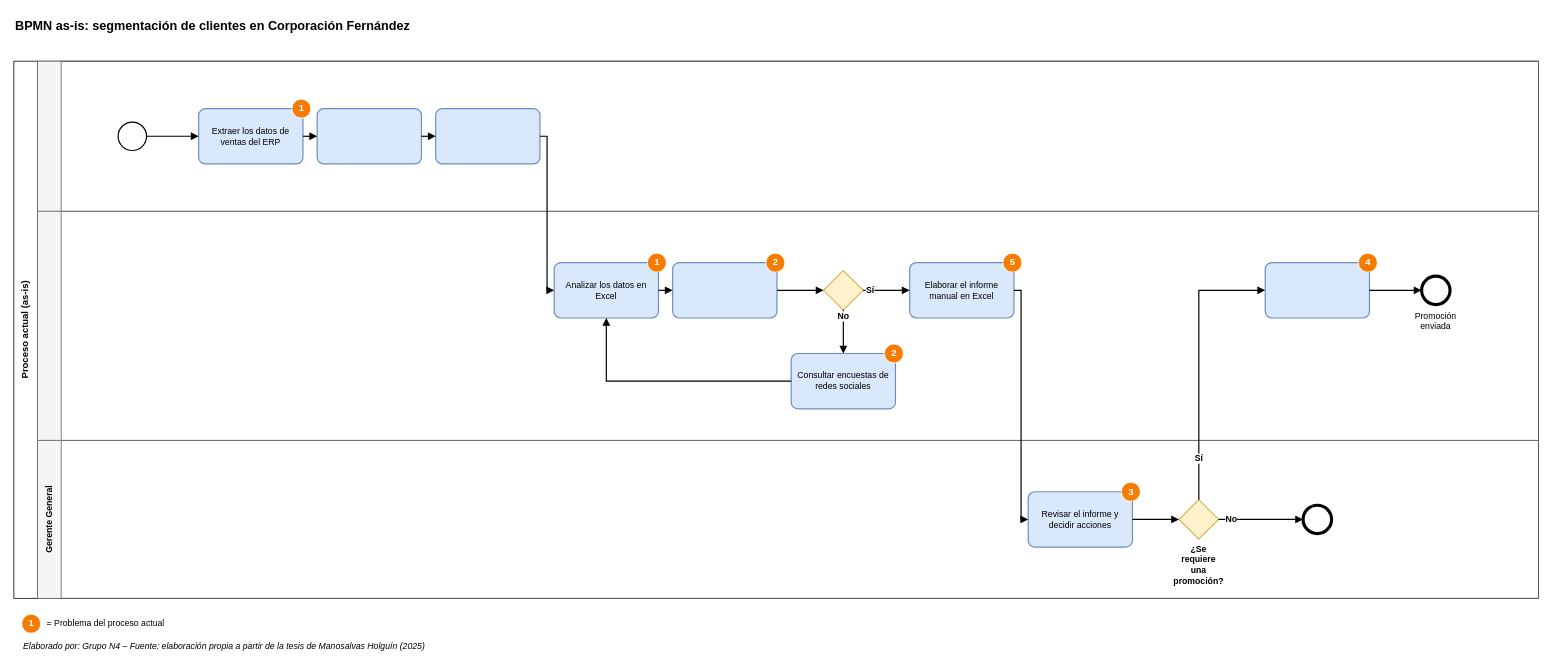
The diagram is 1552 pixels wide and 668 high, and some of its shapes have lost their labels. The shapes that lost their labels are listed below. From the top down, each one's box as (x1, y1, x2, y2) in pixels, then its label:
(117, 121, 147, 151): Se necesita conocer a los clientes
(316, 108, 422, 164): Depurar la base de datos
(435, 108, 540, 164): Enviar el archivo de datos a Marketing
(37, 60, 1539, 211): Gerente de Transformación Digital
(672, 262, 777, 318): Agrupar clientes por ubicación geográfica
(823, 270, 863, 310): ¿El análisis permite decidir?
(1264, 262, 1370, 318): Enviar promociones masivas por WhatsApp
(37, 211, 1539, 440): Gerente de Marketing
(1301, 503, 1333, 535): Sin acción comercial
